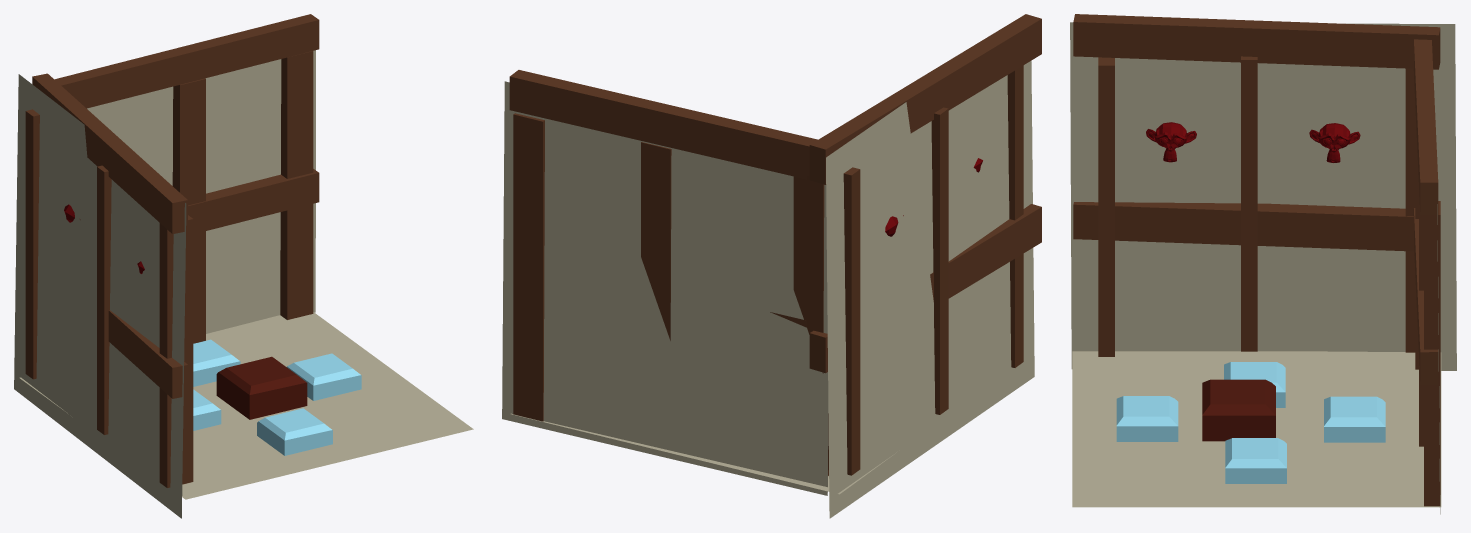
Rendered from ROOM.glb.
3 renders of one model, left to right at view 1: azimuth 30°, elevation 25°; view 2: azimuth 150°, elevation 25°; view 3: azimuth 270°, elevation 25°, orthographic. The views are drawn at different scales.
Parts seen in each view (by area): view 1: Plane.001, Plane.002, Plane, Cube.008, Cube.011, Cube.003, Cube, Cube.009, Cube.012, Cube.019, Cube.002, Cube.001 (+5 smaller); view 2: Plane.002, Plane.001, Cube.008, Cube.011, Cube.003, Cube.002, Cube.001, Cube.009, Cube.013, Cube.010, Cube, Plane; view 3: Plane.001, Plane, Cube.003, Cube.013, Cube, Cube.001, Cube.011, Cube.019, Cube.008, Cube.018, Cube.015, Cube.014 (+7 smaller).
Boxes of the visible parts, x1,y1,x2,y2 form: Plane.001: (14,74,186,518); Plane.002: (87,50,315,333); Plane: (19,312,473,499); Cube.008: (54,14,319,108); Cube.011: (280,51,313,319); Cube.003: (32,73,187,234); Cube: (159,215,193,487); Cube.009: (172,78,205,343); Cube.012: (188,169,319,234); Cube.019: (216,356,307,419); Cube.002: (25,109,39,379); Cube.001: (97,165,111,434); Plane.002: (502,81,828,495); Plane.001: (826,61,1034,518); Cube.008: (509,70,817,179); Cube.011: (513,113,544,421); Cube.003: (809,14,1041,184); Cube.002: (828,167,860,475); Cube.001: (931,107,948,414); Cube.009: (641,142,671,340); Cube.013: (809,204,1041,373); Cube.010: (793,175,828,475); Cube: (1007,65,1023,367); Plane: (511,413,896,494); Plane.001: (1070,22,1456,370); Plane: (1072,351,1441,507); Cube.003: (1073,14,1440,69); Cube.013: (1073,202,1414,251); Cube: (1098,57,1114,356); Cube.001: (1241,56,1257,351); Cube.011: (1424,201,1440,506); Cube.019: (1202,379,1275,441); Cube.008: (1413,39,1438,215); Cube.018: (1324,396,1385,442); Cube.015: (1116,396,1178,441); Cube.014: (1225,438,1286,483).
Size of the model in its own units: 20.99 by 20.62 by 20.59.
